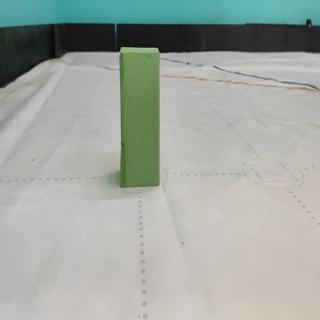greenbox: (117, 45, 160, 190)
